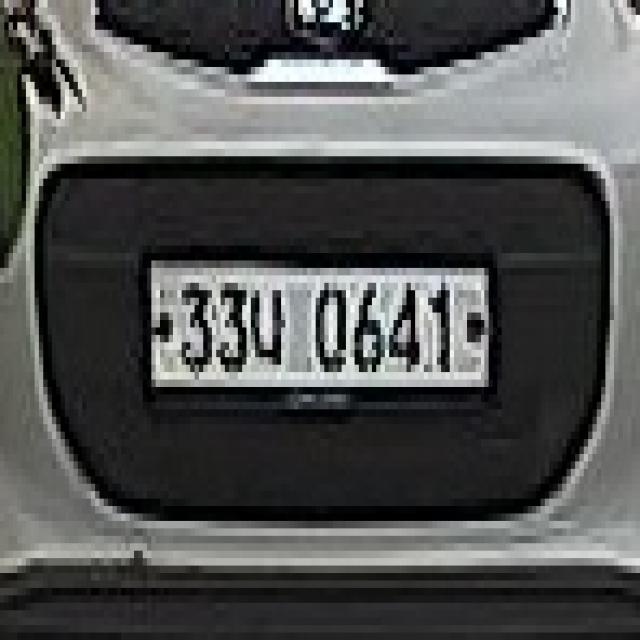0: (312, 275, 351, 372)
1: (428, 275, 454, 372)
3: (216, 275, 251, 387), (177, 276, 212, 380)
4: (385, 283, 424, 372)
6: (350, 275, 385, 372)
license_plate: (147, 253, 497, 394)
na: (247, 283, 290, 372)
